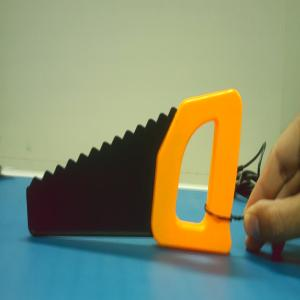serrote: (25, 87, 243, 256)
